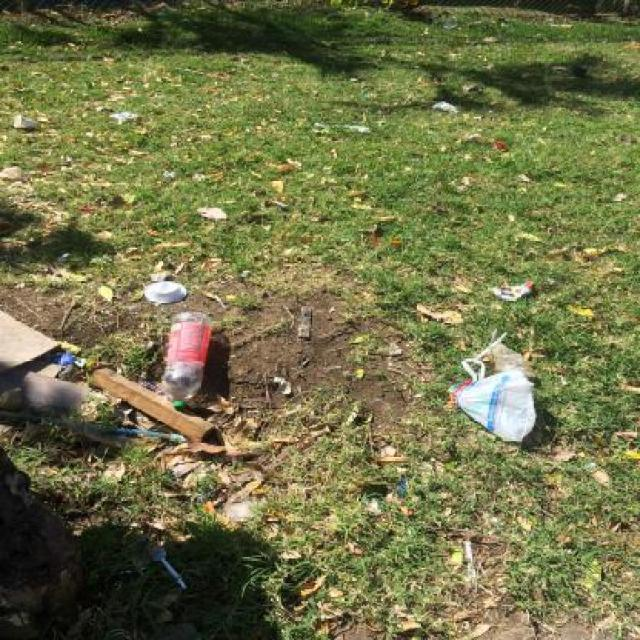cardboard: (490, 282, 533, 300)
plastic: (448, 359, 537, 443), (160, 312, 212, 408), (148, 546, 187, 589), (144, 281, 187, 304), (139, 380, 163, 394)
